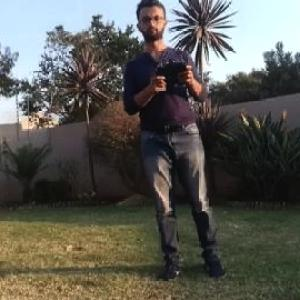follow: (118, 0, 233, 285)
